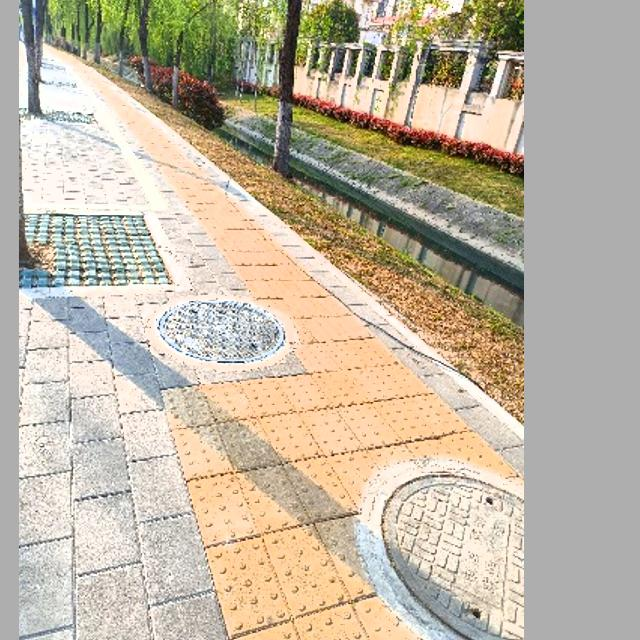good: (381, 466, 524, 640), (157, 299, 286, 364)
